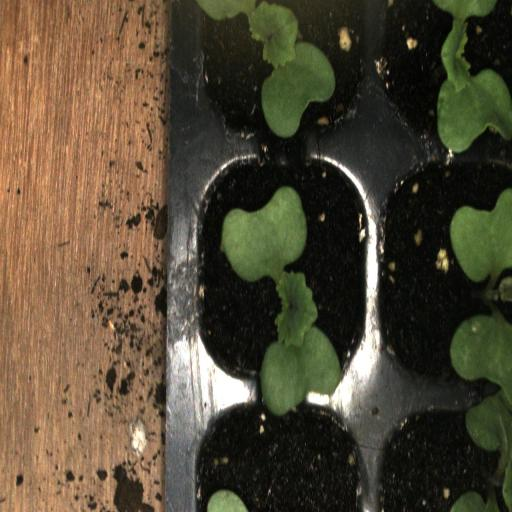seedling: (182, 148, 376, 399), (186, 0, 376, 147), (376, 0, 512, 146)
